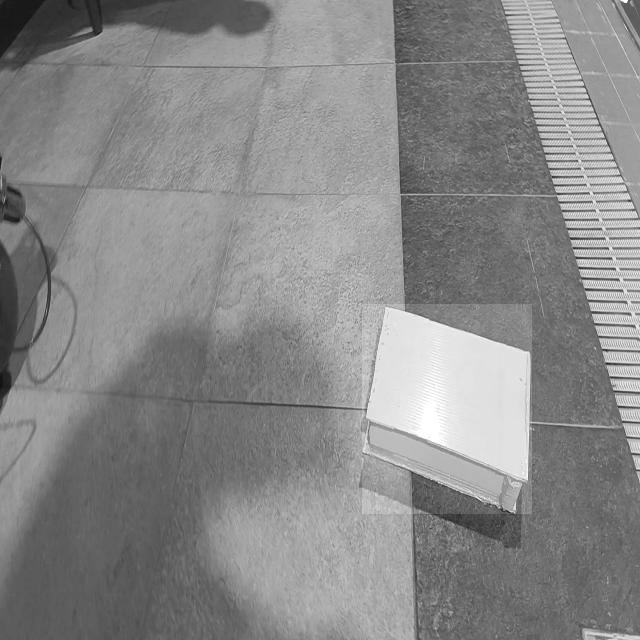Cuboid: (362, 304, 532, 514)
